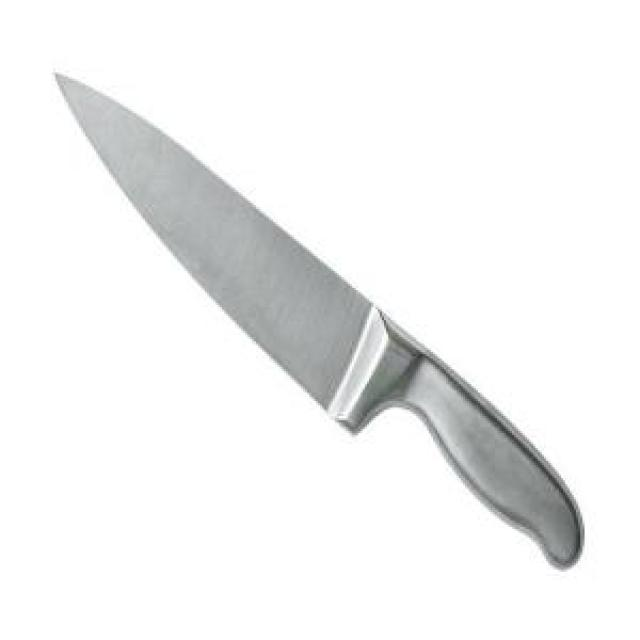knife: (28, 70, 581, 571)
